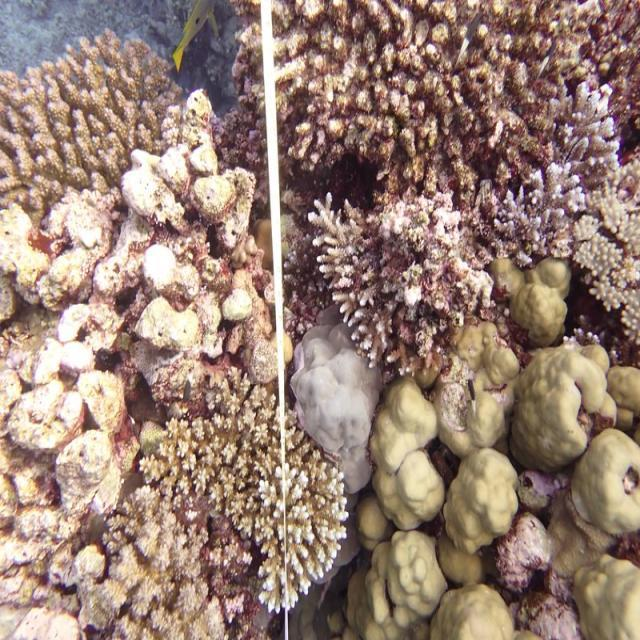Bleached Coral: (353, 336, 639, 640), (235, 456, 349, 624), (286, 298, 382, 454)
